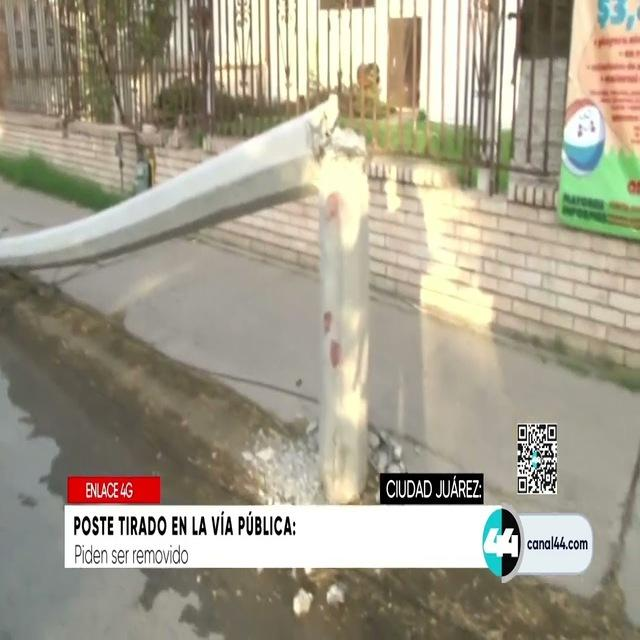Inclined Pole: (1, 95, 377, 503)
